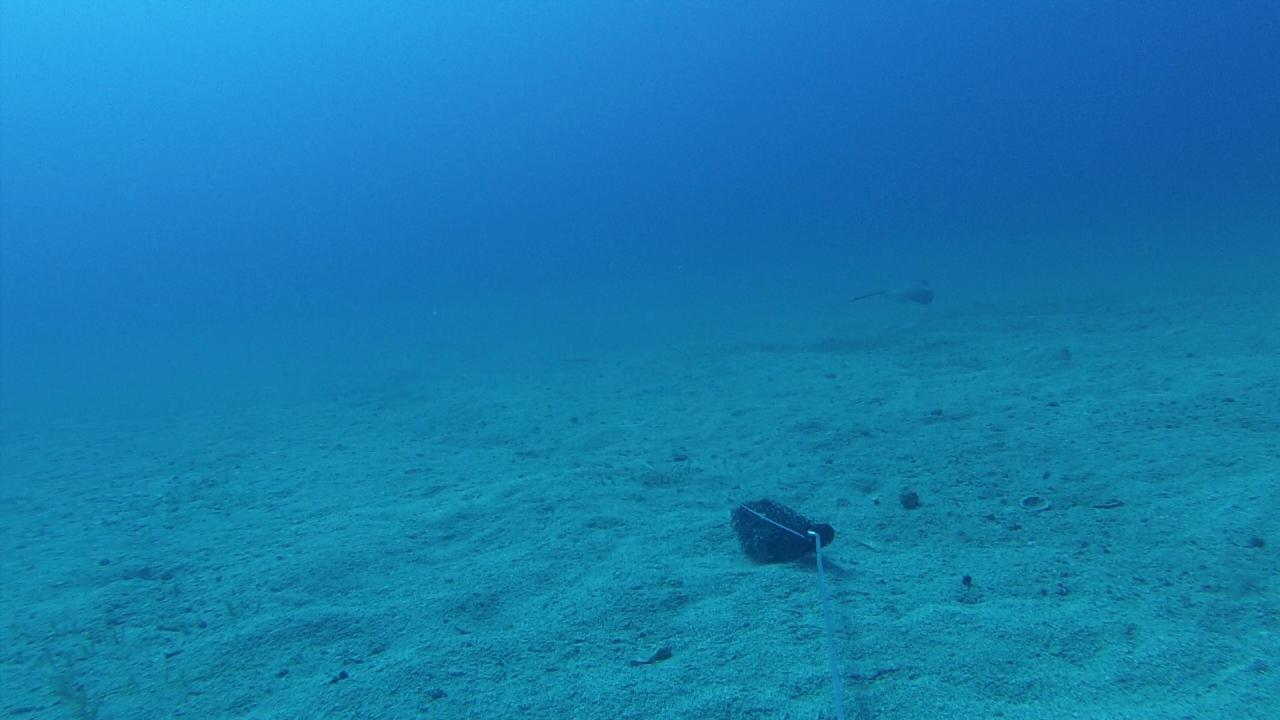dasyatis: (841, 276, 936, 304)
